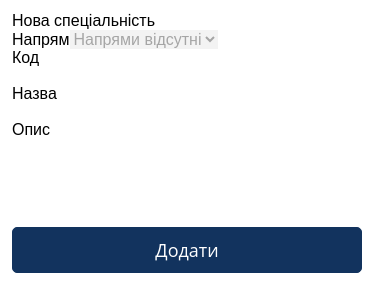
Scenario: AddSpecialtyForm Test › Front end form validation with no data input
This screenshot has width=381, height=290.
Click the button "Додати": click(187, 250) [12, 227, 362, 273]
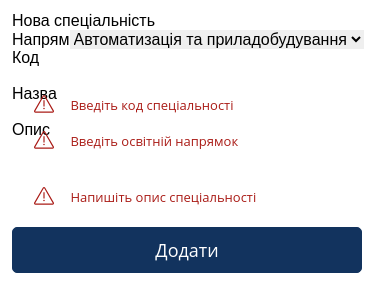
Expected: the text "Введіть код спеціальності" is shown, [70, 96, 234, 114]
Expected: the text "Введіть освітній напрямок" is shown, [70, 132, 238, 150]
Expected: the text "Напишіть опис спеціальності" is shown, [70, 188, 256, 206]
